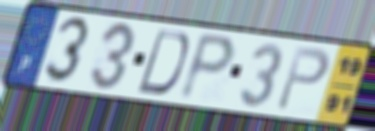3: (41, 16, 95, 87), (89, 20, 138, 93), (238, 41, 285, 110)
D: (134, 27, 192, 97)
P: (176, 29, 238, 103), (273, 44, 333, 114)
